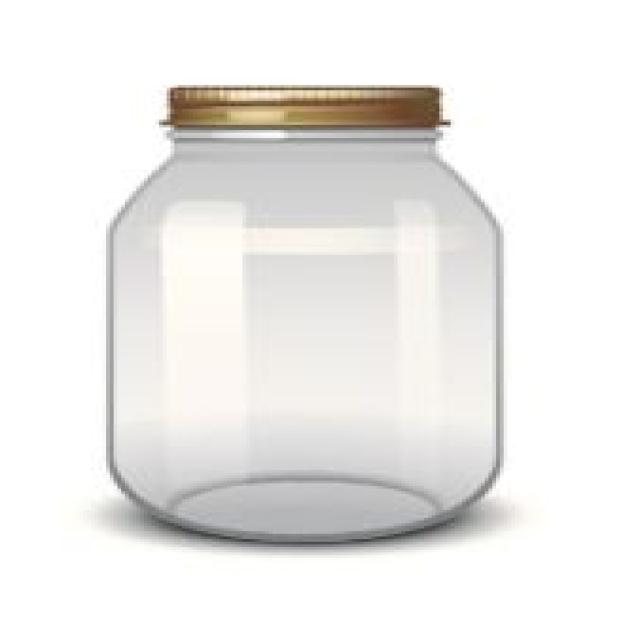electronic: (103, 83, 508, 547)
